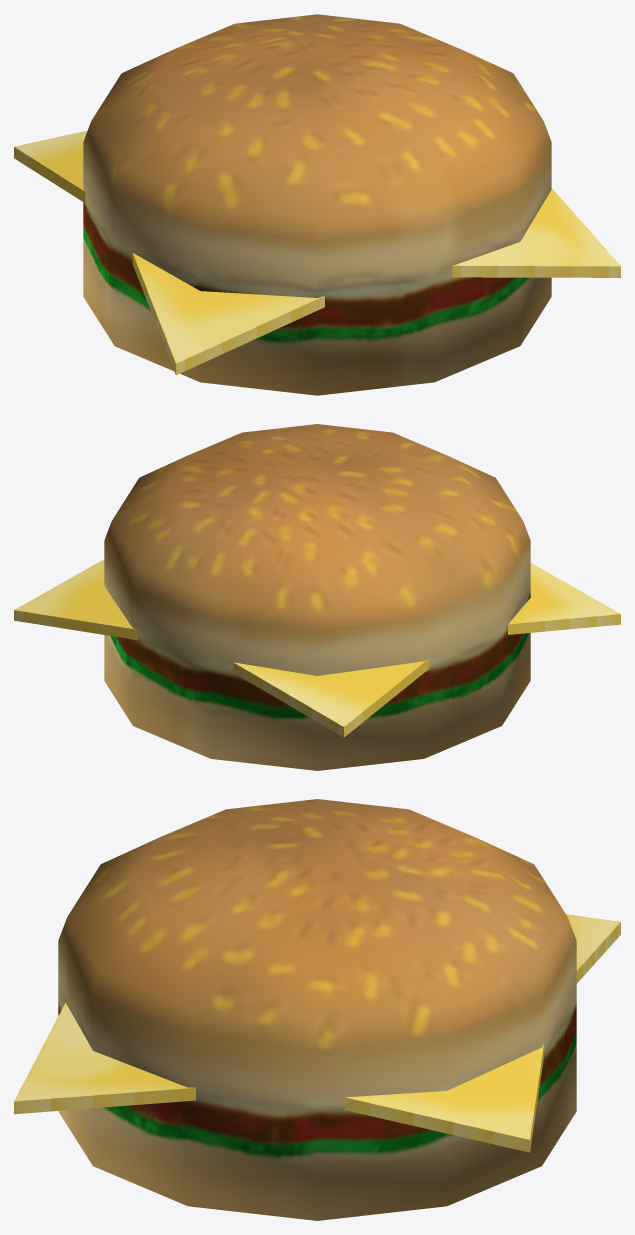
The model's file is food_01.fbx.
3 views of the same model, one above another, from view 1: azimuth 30°, elevation 25°; view 2: azimuth 150°, elevation 25°; view 3: azimuth 270°, elevation 25° (orthographic). The views are drawn at different scales.
Parts seen in each view (by area): view 1: food_01; view 2: food_01; view 3: food_01.
Boxes of the visible parts, x1,y1,x2,y2 form: food_01: (14, 14, 620, 395); food_01: (14, 424, 620, 770); food_01: (14, 799, 620, 1220).
Size of the model in its own units: 2.32 by 1.1 by 2.32.
